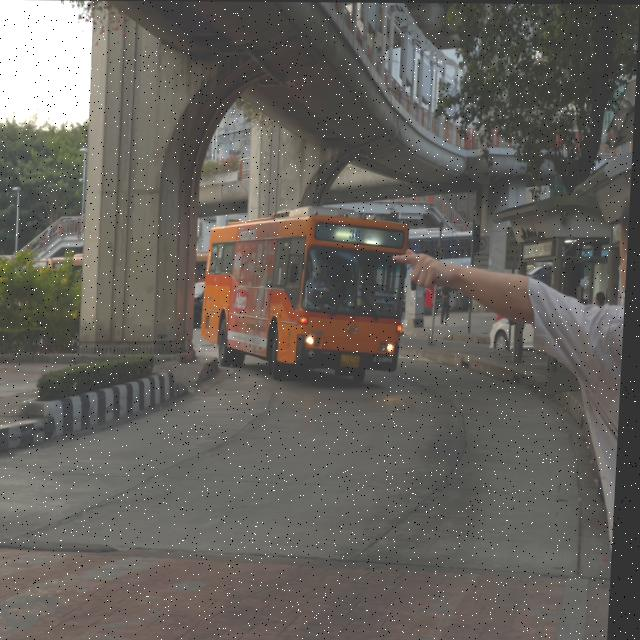BMTA-bus: (206, 209, 412, 383)
Bus Line Number: (350, 226, 377, 243)
Bus Side Number: (375, 355, 398, 366)
Destination Sign: (375, 289, 398, 308)
